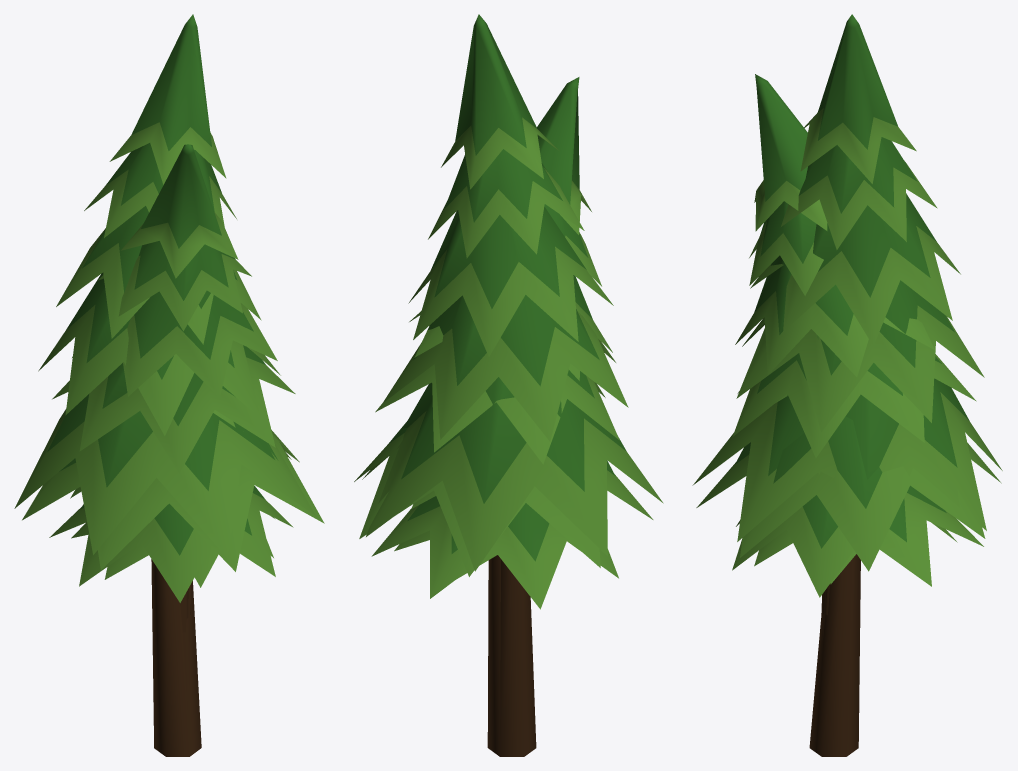
The model's file is pinetrees.fbx.
3 renders of one model, left to right at view 1: azimuth 30°, elevation 25°; view 2: azimuth 150°, elevation 25°; view 3: azimuth 270°, elevation 25°, orthographic. The views are drawn at different scales.
Parts seen in each view (by area): view 1: pine.002, pine.003, pine.001, pine; view 2: pine.002, pine.003, pine.001; view 3: pine.002, pine.003, pine.001, pine.
Part boxes in pixels (<box>): pine.002: <box>14,14,315,756</box>; pine.003: <box>22,144,324,756</box>; pine.001: <box>49,410,293,632</box>; pine: <box>71,516,274,641</box>; pine.002: <box>362,14,663,756</box>; pine.003: <box>354,77,653,756</box>; pine.001: <box>371,490,618,609</box>; pine.002: <box>692,14,1002,741</box>; pine.003: <box>696,74,1001,756</box>; pine.001: <box>732,394,983,623</box>; pine: <box>754,522,957,639</box>.
Size of the model in its own units: 257 by 660 by 250.
